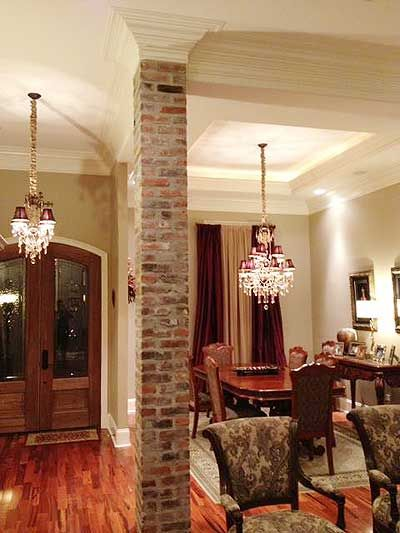chair: (195, 405, 349, 533), (336, 399, 400, 533), (282, 358, 343, 481)
pole: (113, 52, 203, 533)
